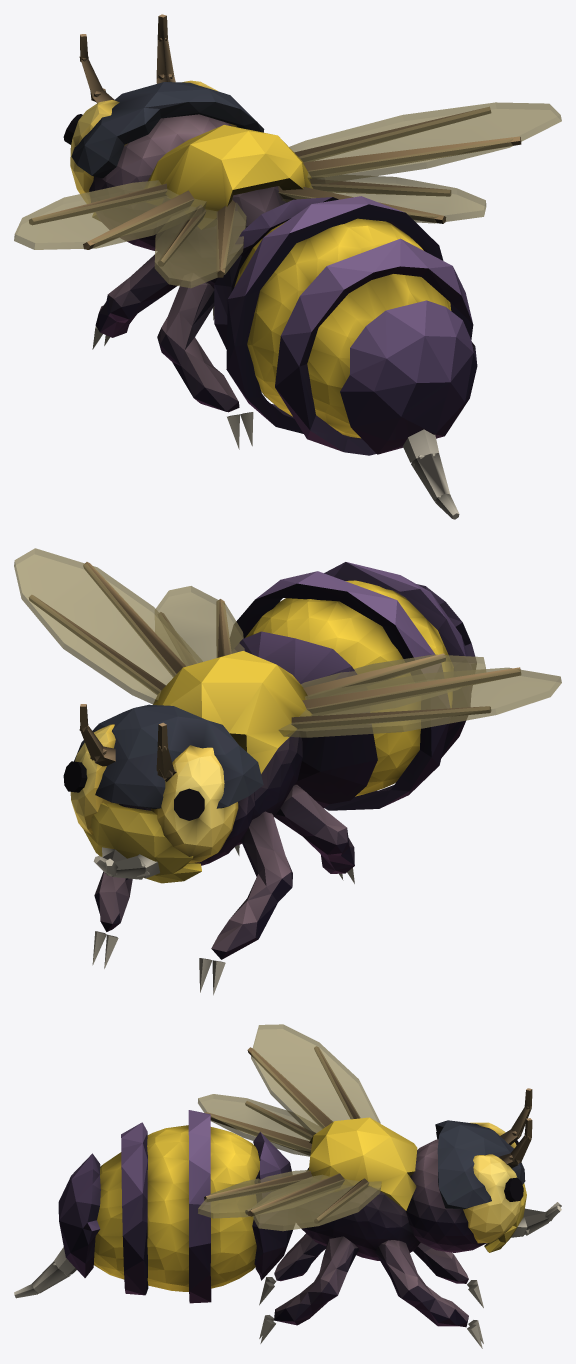
Rendered from Flyer.fbx.
3 renders of one model, top to bottom at view 1: azimuth 30°, elevation 25°; view 2: azimuth 150°, elevation 25°; view 3: azimuth 270°, elevation 25°, orthographic. The views are drawn at different scales.
Visible parts, largest first — view 1: Torso, Core_Glow, Head, Wing_2, Wing_1, Wing_3, Wing_4, Eyes_Glow; view 2: Torso, Head, Wing_2, Wing_1, Core_Glow, Eyes_Glow, Wing_4, Wing_3; view 3: Torso, Core_Glow, Head, Wing_1, Wing_2, Wing_3, Eyes_Glow, Wing_4.
Part boxes in pixels (x1,y1,x2,y2): Torso: (92, 125, 477, 519); Core_Glow: (234, 218, 451, 438); Head: (63, 14, 264, 250); Wing_2: (289, 102, 561, 183); Wing_1: (14, 180, 206, 249); Wing_3: (154, 200, 246, 288); Wing_4: (278, 175, 486, 223); Eyes_Glow: (70, 80, 236, 203); Torso: (92, 562, 476, 995); Head: (63, 704, 263, 883); Wing_2: (14, 548, 202, 704); Wing_1: (278, 667, 561, 737); Core_Glow: (245, 580, 453, 796); Eyes_Glow: (70, 724, 238, 862); Wing_4: (155, 586, 244, 665); Wing_3: (301, 653, 485, 714); Torso: (14, 1110, 483, 1348); Core_Glow: (94, 1125, 259, 1291); Head: (406, 1088, 561, 1252); Wing_1: (247, 1024, 380, 1135); Wing_2: (247, 1173, 381, 1231); Wing_3: (198, 1094, 321, 1156); Eyes_Glow: (463, 1122, 520, 1243); Wing_4: (198, 1170, 334, 1218).
Bounding box in the file's own units: 3.84 × 1.97 × 4.4.
